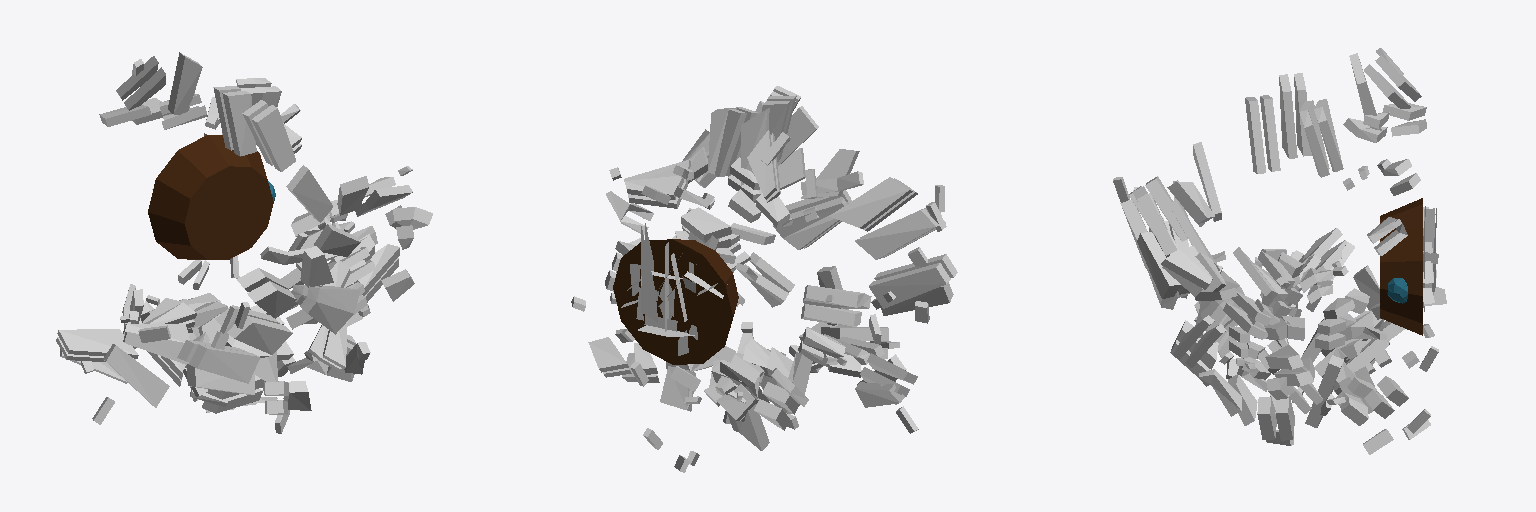
3 renders of one model, left to right at view 1: azimuth 30°, elevation 25°; view 2: azimuth 150°, elevation 25°; view 3: azimuth 270°, elevation 25°, orthographic.
Visible parts, largest first — view 1: Cone.001_Cone.001_cover, Cone_Cone_cover, Cylinder_Cylinder_Material.001; view 2: Cone_Cone_cover, Cone.001_Cone.001_cover, Cylinder_Cylinder_Material.001, Plane_Plane_Material.003; view 3: Cone.001_Cone.001_cover, Cone_Cone_cover, Cylinder_Cylinder_Material.001, Plane_Plane_Material.003.
Boxes of the visible parts, x1=… form: Cone.001_Cone.001_cover: x1=56, y1=52, x2=412, y2=424; Cone_Cone_cover: x1=138, y1=176, x2=432, y2=433; Cylinder_Cylinder_Material.001: x1=148, y1=135, x2=273, y2=259; Cone_Cone_cover: x1=571, y1=101, x2=957, y2=472; Cone.001_Cone.001_cover: x1=606, y1=86, x2=946, y2=449; Cylinder_Cylinder_Material.001: x1=613, y1=239, x2=738, y2=364; Plane_Plane_Material.003: x1=621, y1=223, x2=727, y2=355; Cone.001_Cone.001_cover: x1=1113, y1=48, x2=1438, y2=433; Cone_Cone_cover: x1=1120, y1=176, x2=1434, y2=454; Cylinder_Cylinder_Material.001: x1=1380, y1=198, x2=1422, y2=335; Plane_Plane_Material.003: x1=1423, y1=206, x2=1446, y2=311.
Size of the model in its own units: 3.13 by 3.27 by 2.68.
Materials: 4 (1 with a texture image).